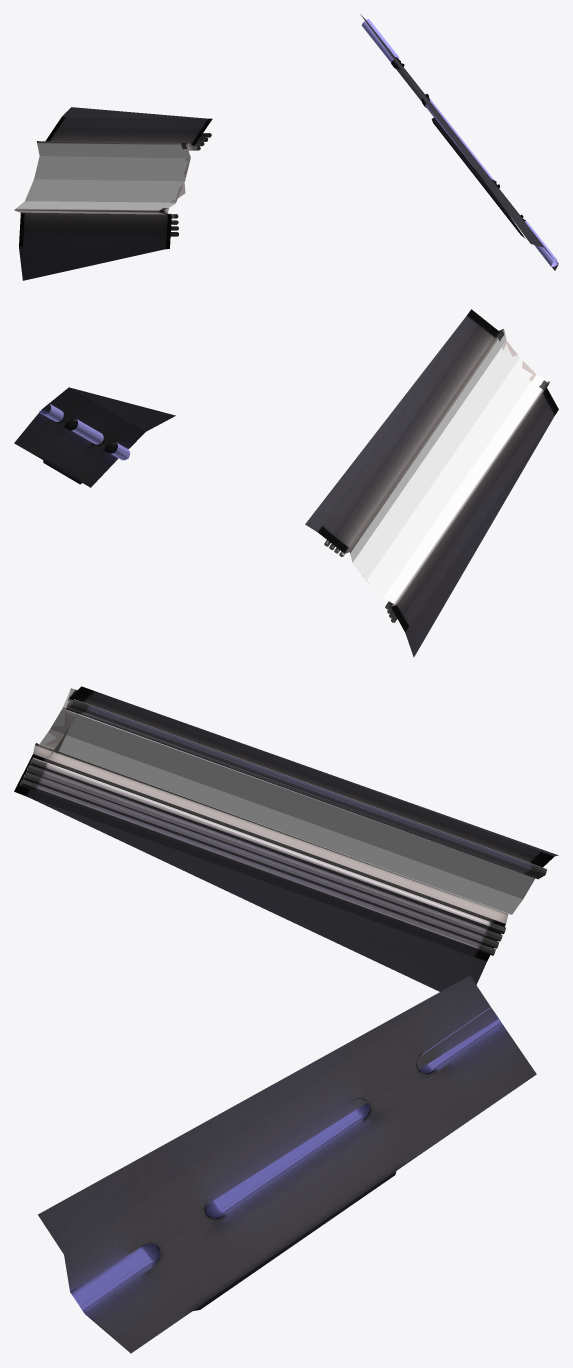
Rendered from fragments.fbx.
3 renders of one model, top to bottom at view 1: azimuth 30°, elevation 25°; view 2: azimuth 150°, elevation 25°; view 3: azimuth 270°, elevation 25°, orthographic. The views are drawn at different scales.
Parts seen in each view (by area): view 1: Corridoio_002, Corridoio_000; view 2: Corridoio_002, Corridoio_000; view 3: Corridoio_002, Corridoio_000.
Boxes of the visible parts, x1,y1,x2,y2 form: Corridoio_002: [14, 107, 212, 280]; Corridoio_000: [360, 14, 558, 270]; Corridoio_002: [305, 309, 558, 657]; Corridoio_000: [14, 387, 175, 487]; Corridoio_002: [14, 686, 558, 991]; Corridoio_000: [38, 975, 536, 1353].
Bounding box in the file's own units: 9.76 × 5.52 × 6.92.
